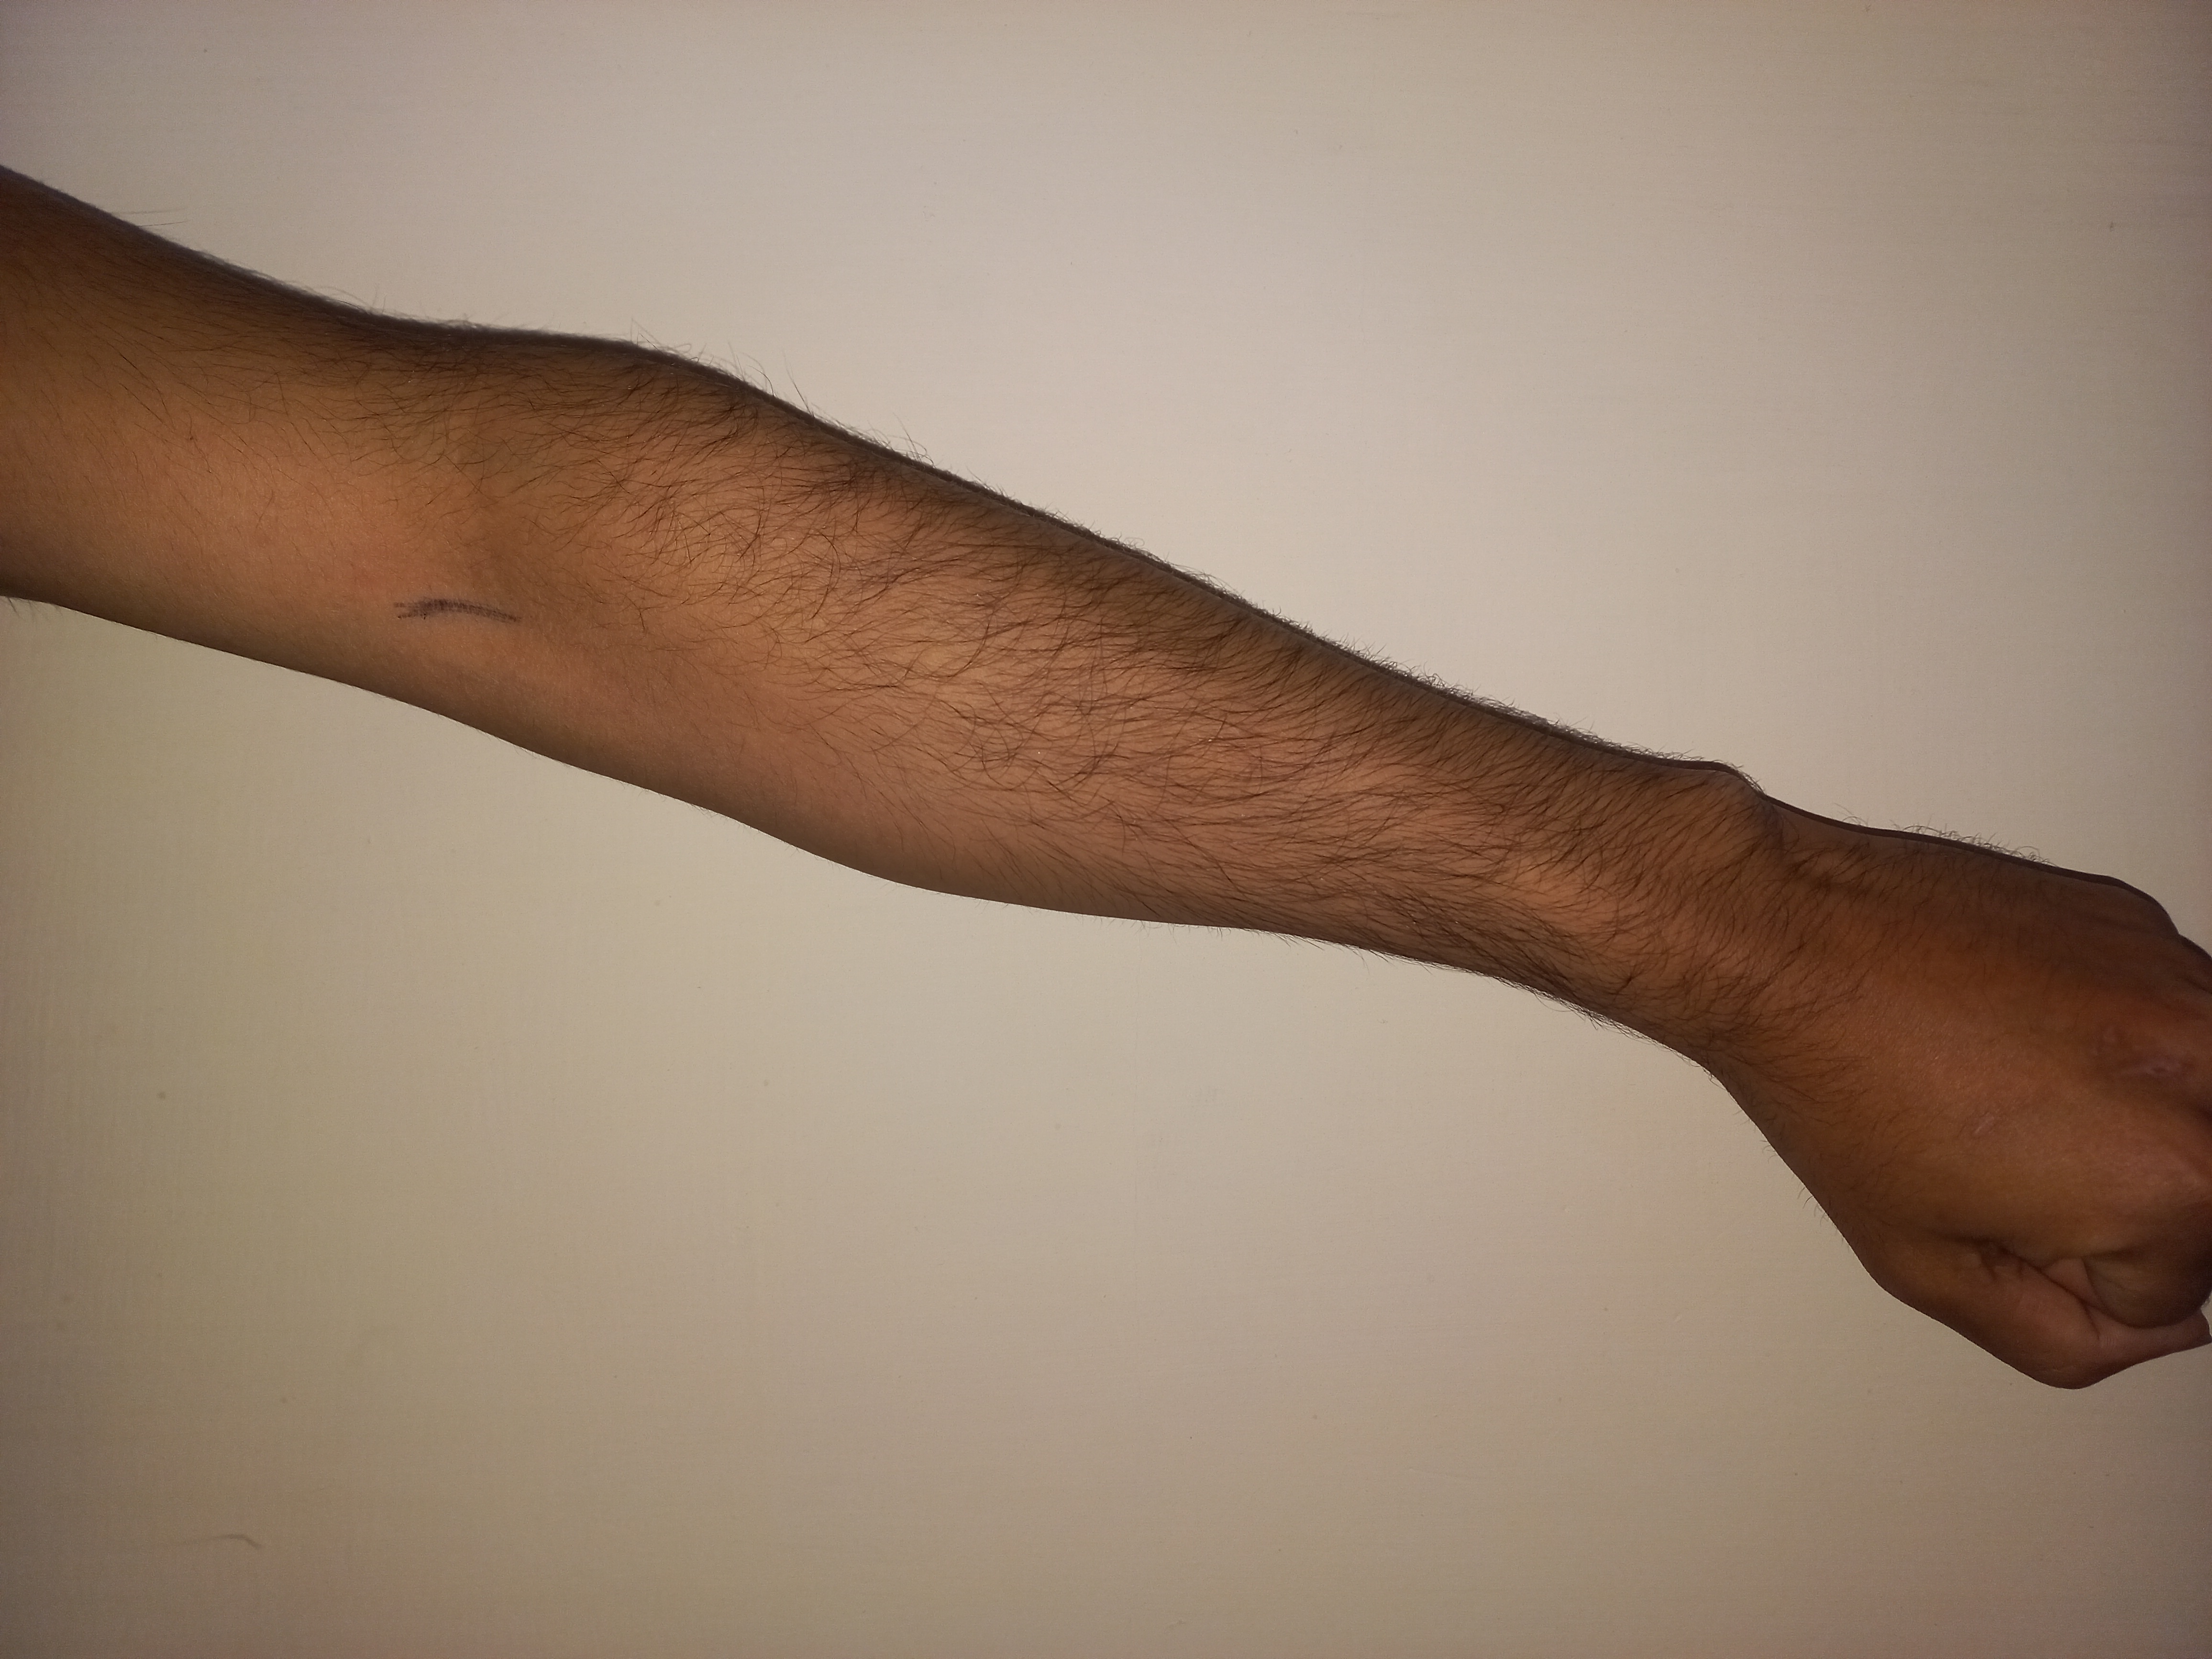vein: (376, 577, 538, 645)
